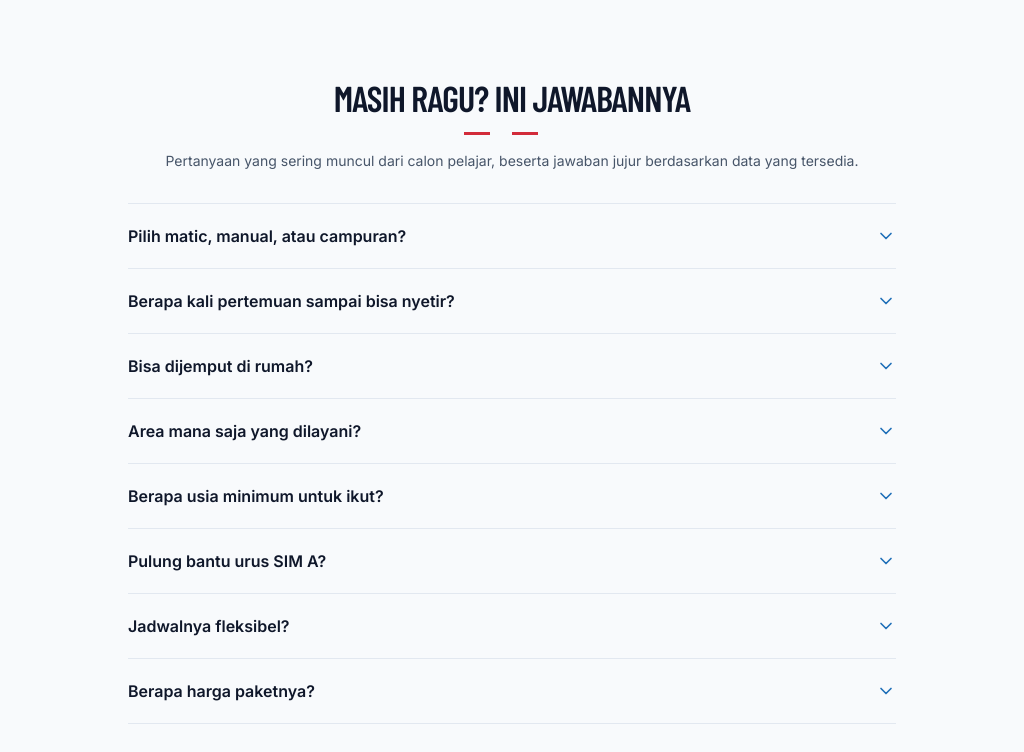
Test case: Faq accordion › keeps only one panel open at a time (single-open)
What coordinates should you click on to do the following:
click the button "Pilih matic, manual, atau campuran?"
I would click on:
 (267, 236)
Its box is [128,204,896,268].
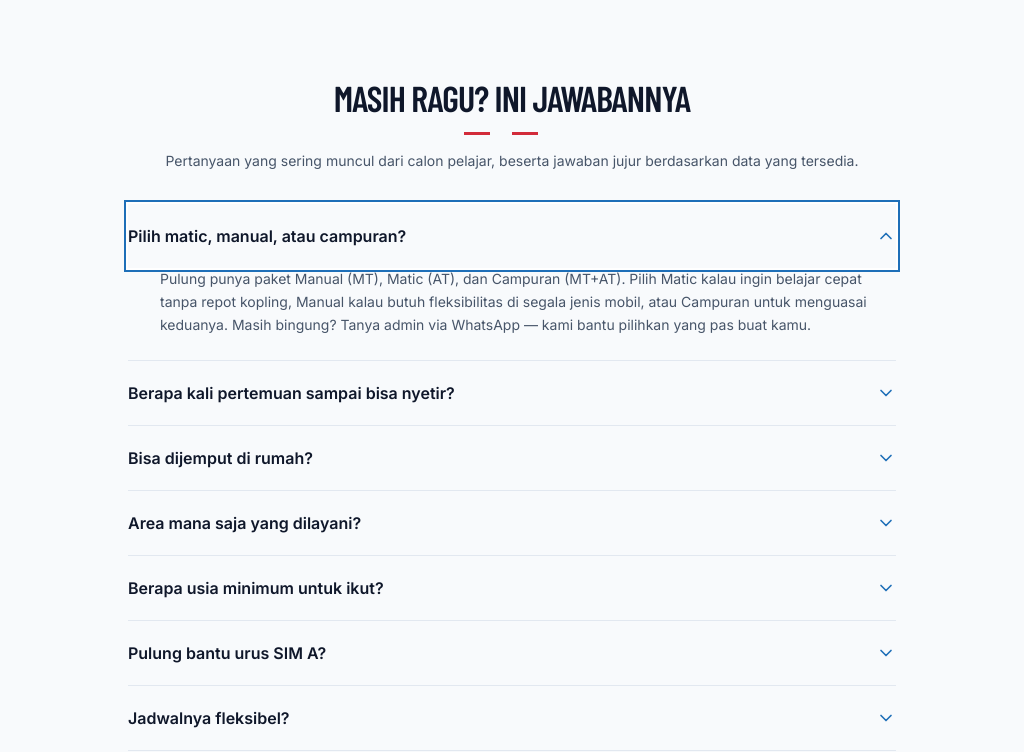
Expected: the button "Pilih matic, manual, atau campuran?" is expanded, [128,204,896,268]
What coordinates should you click on to do the following:
click the button "Berapa kali pertemuan sampai bisa nyetir?"
I would click on:
 (291, 393)
Its box is [128,361,896,425].
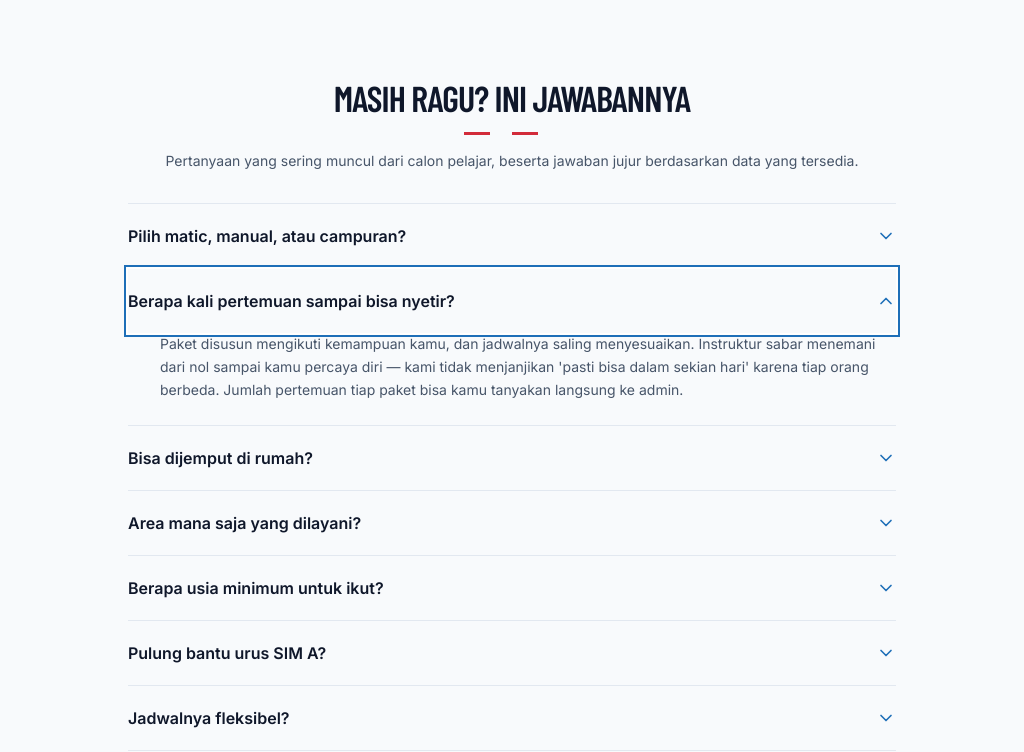
Expected: the button "Pilih matic, manual, atau campuran?" is collapsed, [128,204,896,268]
Expected: the button "Berapa kali pertemuan sampai bisa nyetir?" is expanded, [128,269,896,333]
